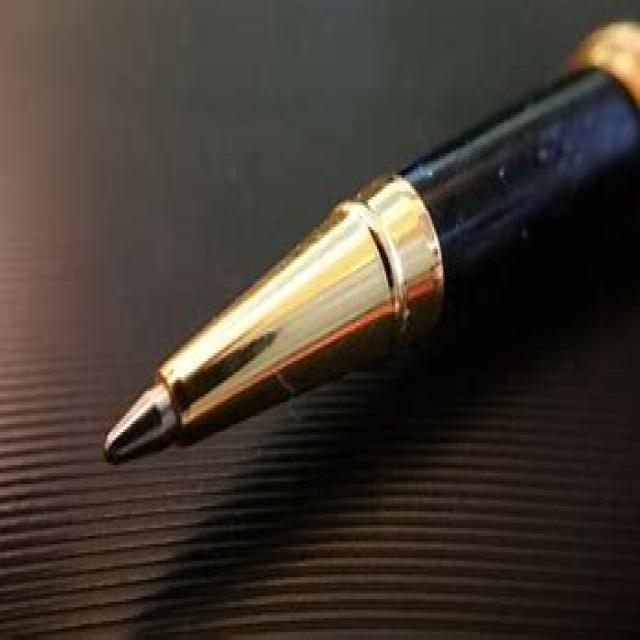pen: (97, 23, 640, 470)
